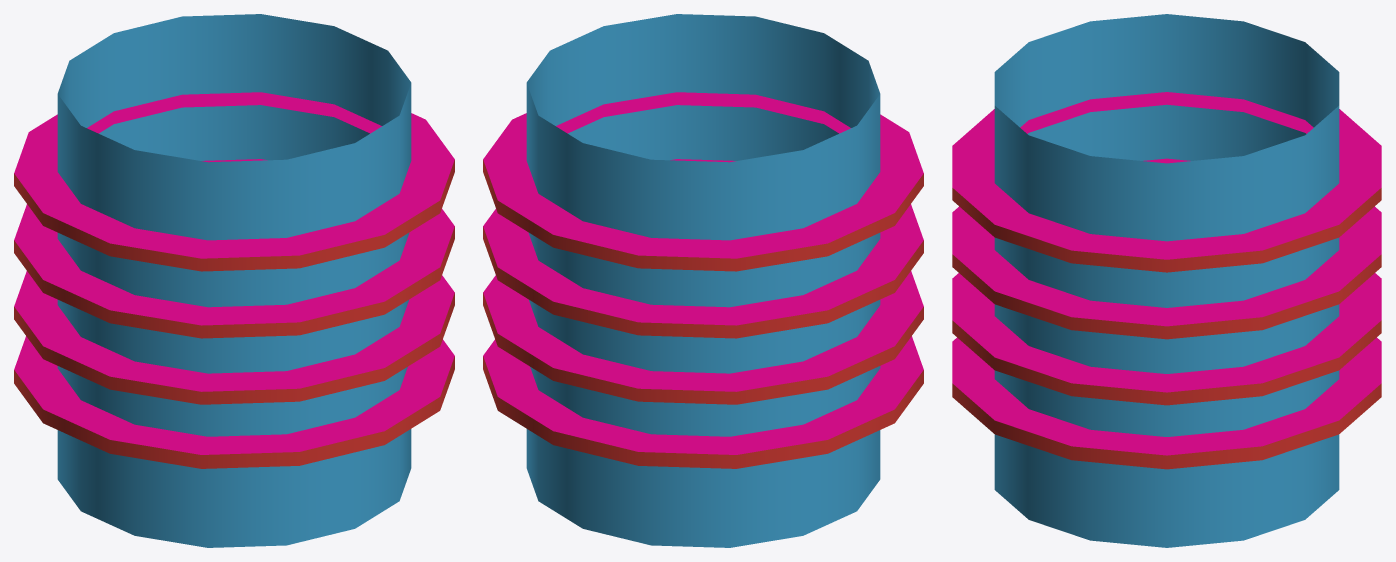
The model's file is C_Expo.fbx.
The picture shows the model from 3 angles, left to right: view 1: azimuth 30°, elevation 25°; view 2: azimuth 150°, elevation 25°; view 3: azimuth 270°, elevation 25°; orthographic projection.
Parts seen in each view (by area): view 1: S_BarExposure; view 2: S_BarExposure; view 3: S_BarExposure.
Part boxes in pixels (x1,y1,x2,y2): S_BarExposure: [14, 14, 454, 547]; S_BarExposure: [483, 14, 923, 547]; S_BarExposure: [952, 14, 1381, 547].
Size of the model in its own units: 623 by 600 by 607.
